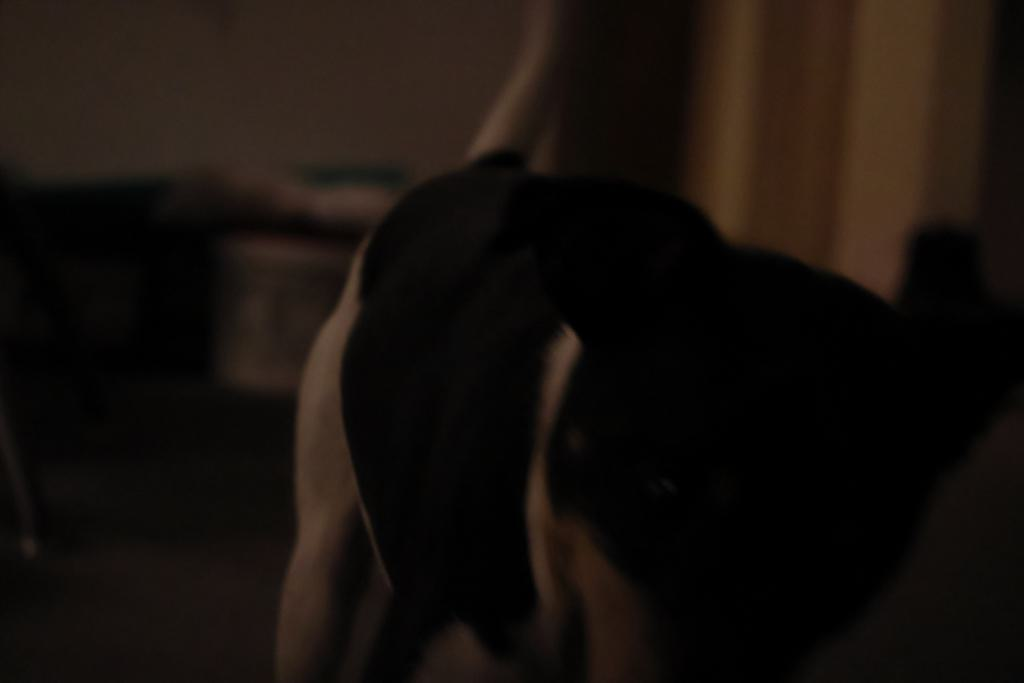Dog: (266, 0, 1024, 683)
